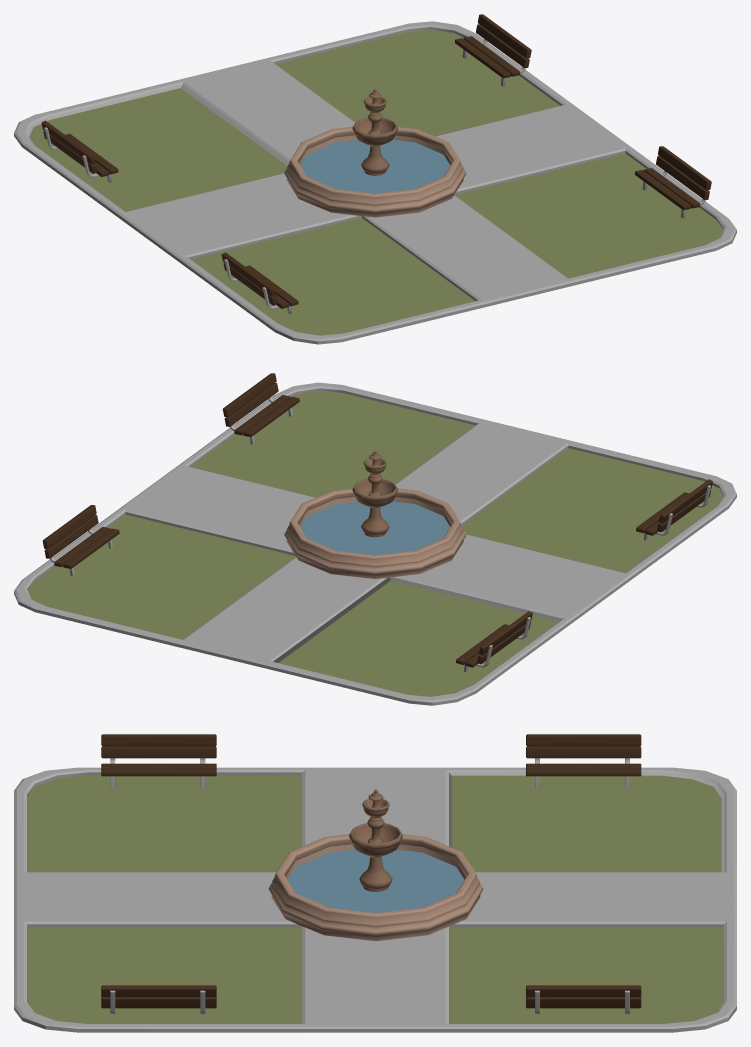
File: Fuente_Entera.fbx
The picture shows the model from 3 angles, top to bottom: view 1: azimuth 30°, elevation 25°; view 2: azimuth 150°, elevation 25°; view 3: azimuth 270°, elevation 25°; orthographic projection. The views are drawn at different scales.
Parts seen in each view (by area): view 1: polySurface130; view 2: polySurface130; view 3: polySurface130.
Boxes of the visible parts, x1,y1,x2,y2 form: polySurface130: (14,14,736,344); polySurface130: (14,373,736,705); polySurface130: (14,734,736,1032).
Bounding box in the file's own units: 2434 × 490 × 2847.
